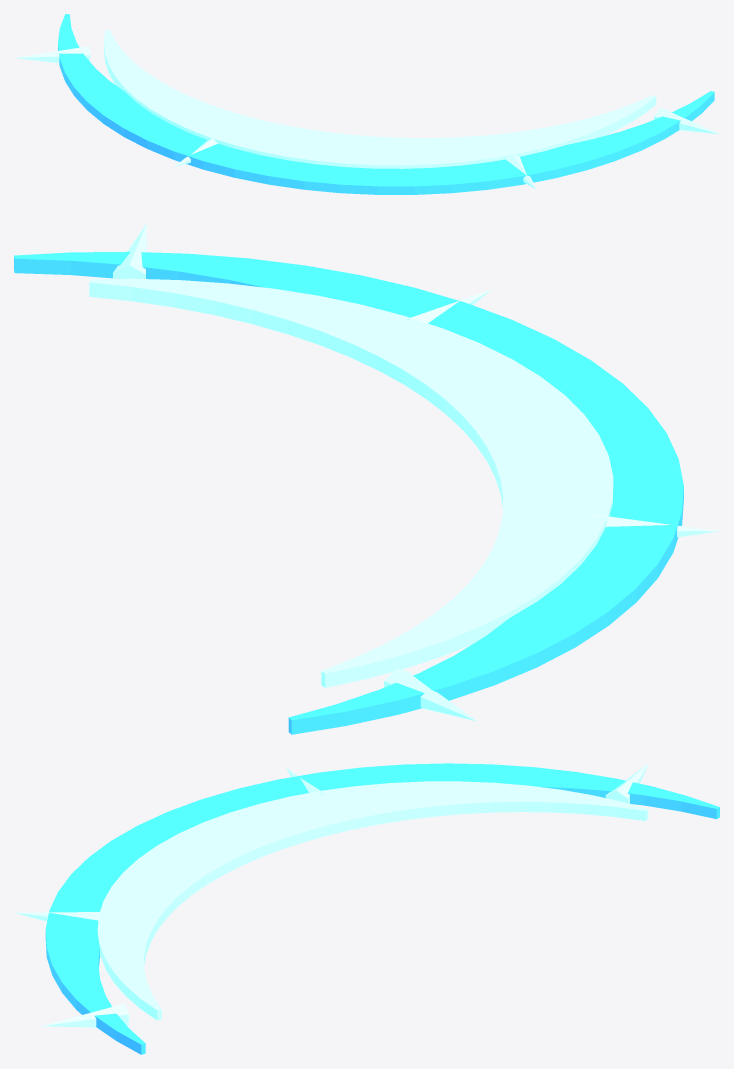
Rendered from fxWide.glb.
The picture shows the model from 3 angles, top to bottom: view 1: azimuth 30°, elevation 25°; view 2: azimuth 150°, elevation 25°; view 3: azimuth 270°, elevation 25°; orthographic projection. The views are drawn at different scales.
Parts seen in each view (by area): view 1: FX02_WideSweep_Mesh; view 2: FX02_WideSweep_Mesh; view 3: FX02_WideSweep_Mesh.
Part boxes in pixels (x1,y1,x2,y2): FX02_WideSweep_Mesh: (15,14,719,194); FX02_WideSweep_Mesh: (14,223,718,734); FX02_WideSweep_Mesh: (15,763,719,1054).
Bounding box in the file's own units: 0.00298 × 0.00012 × 0.00312.
